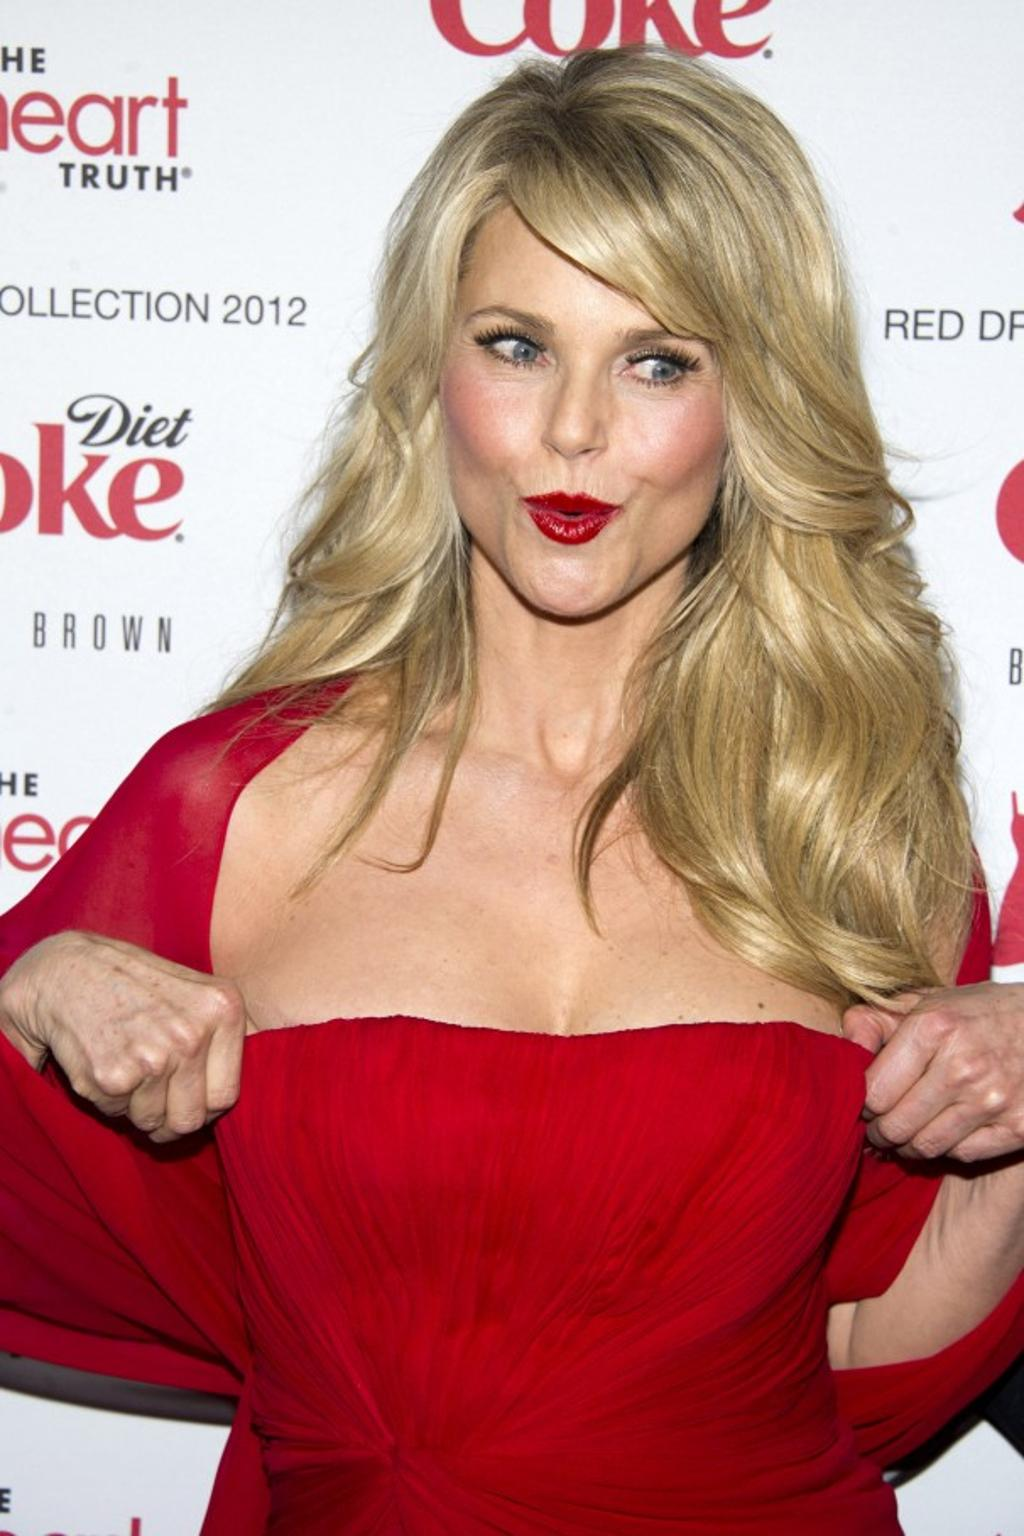face: (441, 180, 738, 618)
